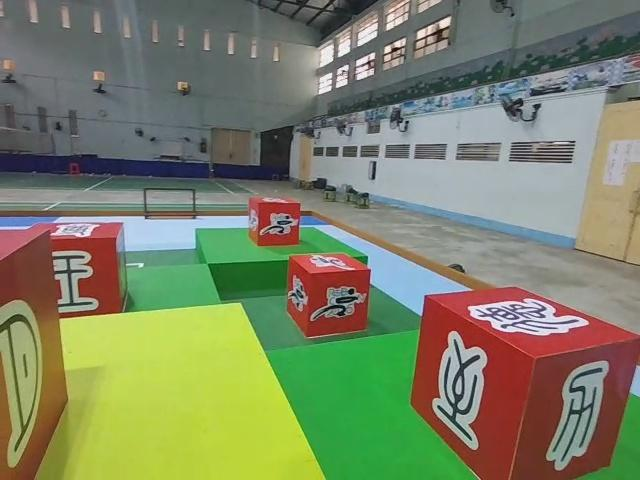R1: (287, 251, 371, 338), (249, 197, 300, 247)
R2 Fake: (410, 284, 639, 480), (23, 221, 125, 320)
R2 Real: (0, 226, 68, 479)
